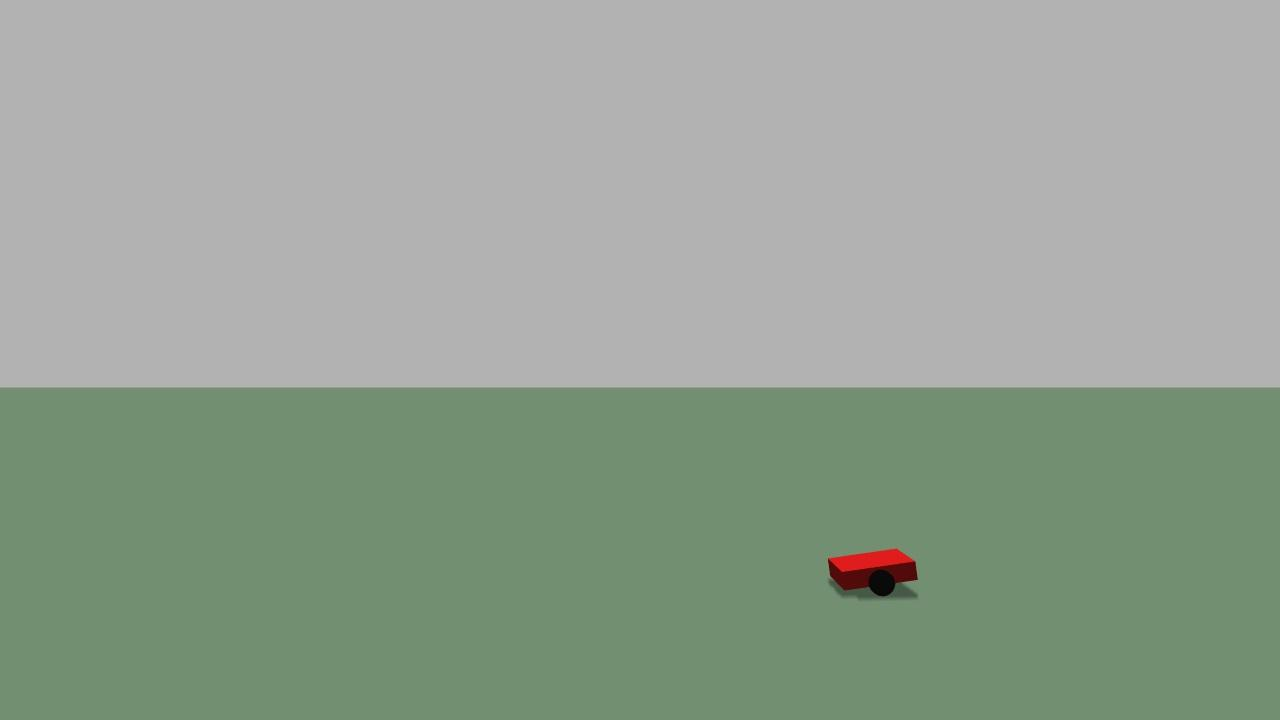ground_vehicle: (817, 534, 942, 607)
